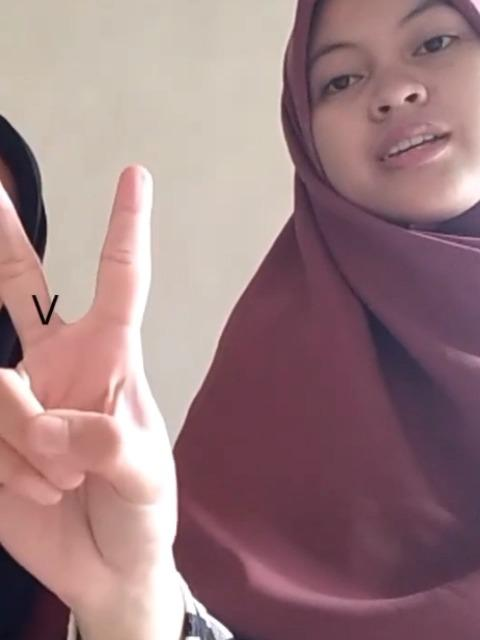V: (0, 160, 224, 640)
